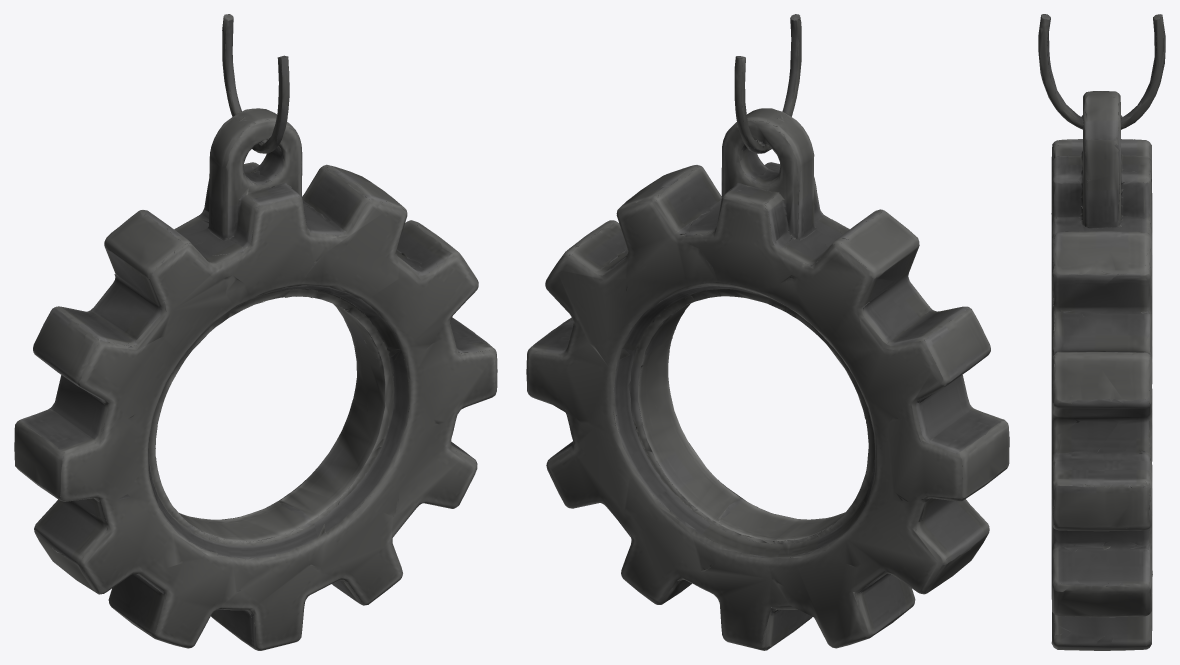
The model's file is piece_charm_gear.glb.
3 views of the same model, side by side, from view 1: azimuth 30°, elevation 25°; view 2: azimuth 150°, elevation 25°; view 3: azimuth 270°, elevation 25° (orthographic). The views are drawn at different scales.
Visible parts, largest first — view 1: trait_charm_gear; view 2: trait_charm_gear; view 3: trait_charm_gear.
Boxes of the visible parts, x1=… form: trait_charm_gear: x1=14, y1=14, x2=497, y2=650; trait_charm_gear: x1=526, y1=14, x2=1009, y2=650; trait_charm_gear: x1=1038, y1=14, x2=1165, y2=650.
Size of the model in its own units: 0.1326 by 0.1722 by 0.0323.
Materials: 1 (1 with a texture image).
